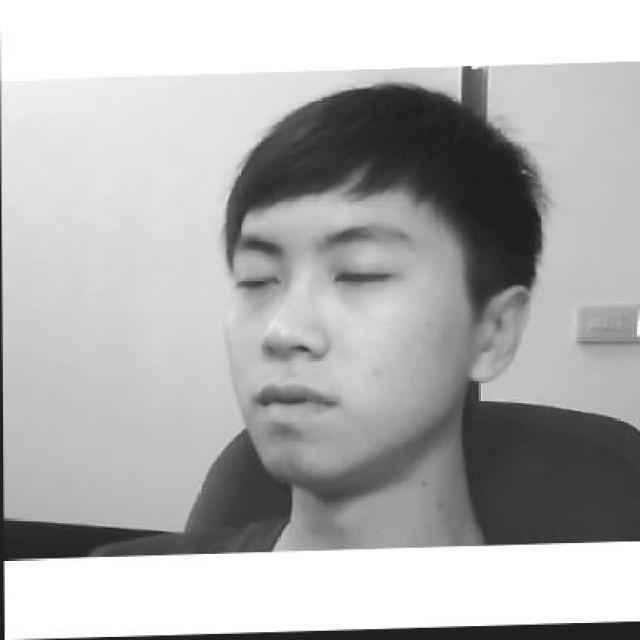inattentif: (221, 79, 530, 492)
